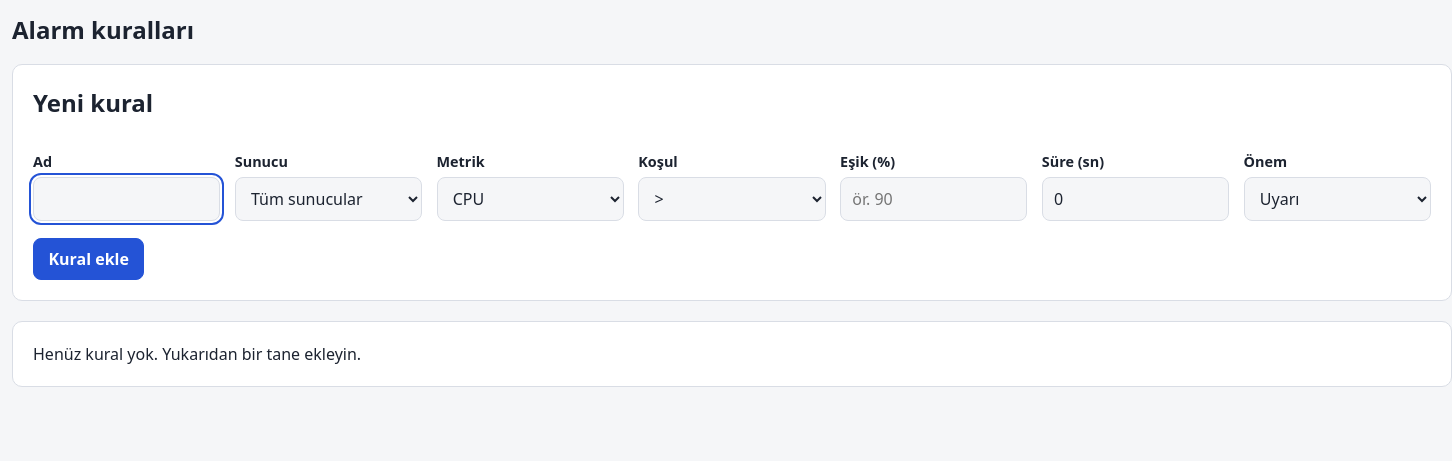
Test: RulesPage › form: doğrulama hatası sunucuya istek göndermeden gösterilir
Expected: the text "Henüz kural yok. Yukarıdan bir tane ekleyin." is shown, [12,321,1451,387]
Click the button "Kural ekle".
click(89, 259)  # box [33,238,144,280]
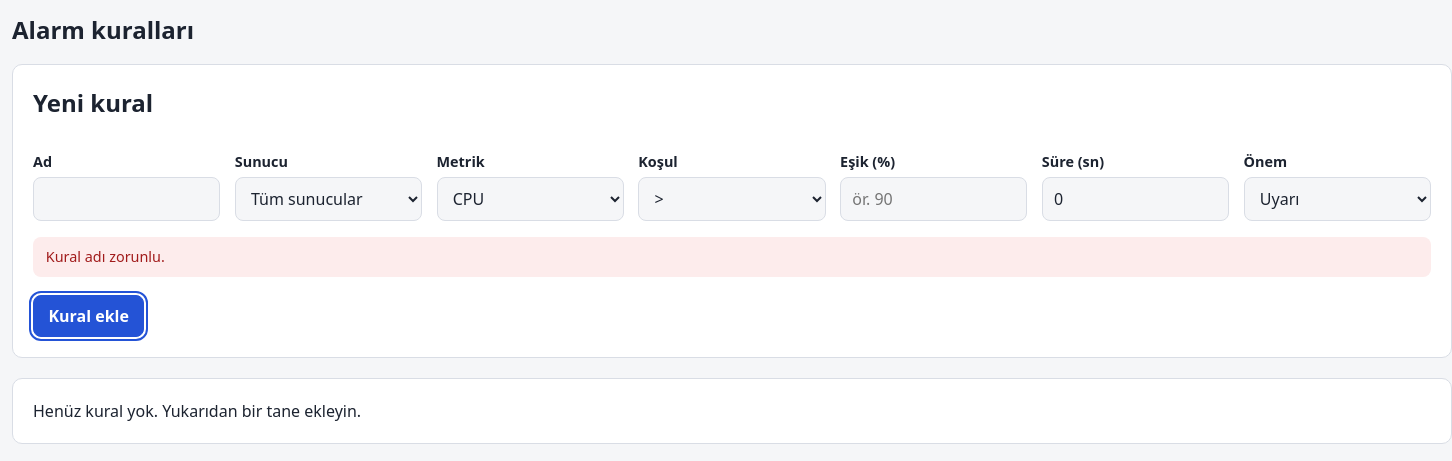
Now the message reads "Kural adı zorunlu.", box [46,247,165,266]
